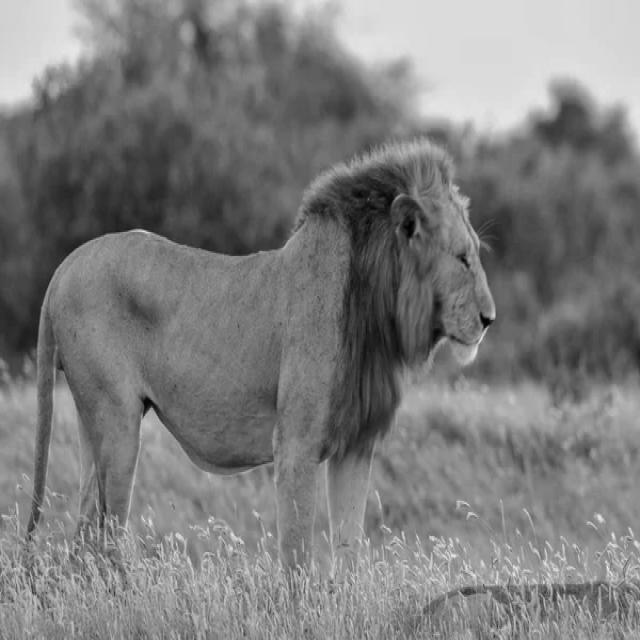Animal: (28, 139, 496, 569)
